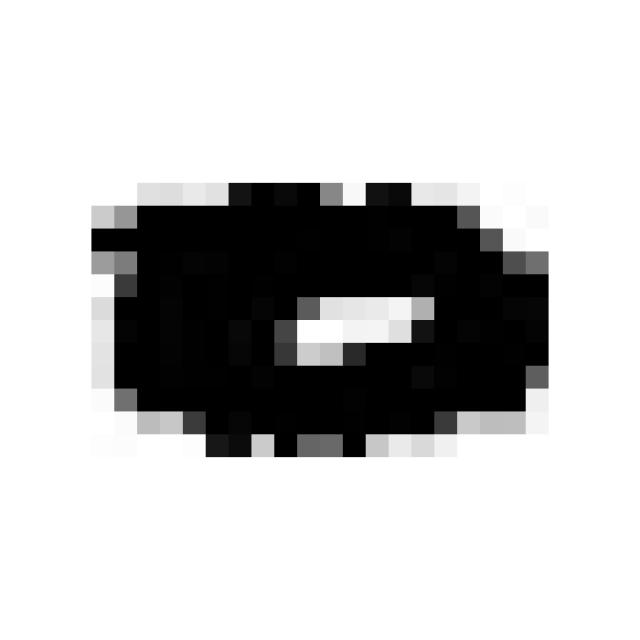0 -zero-: (73, 162, 566, 476)
